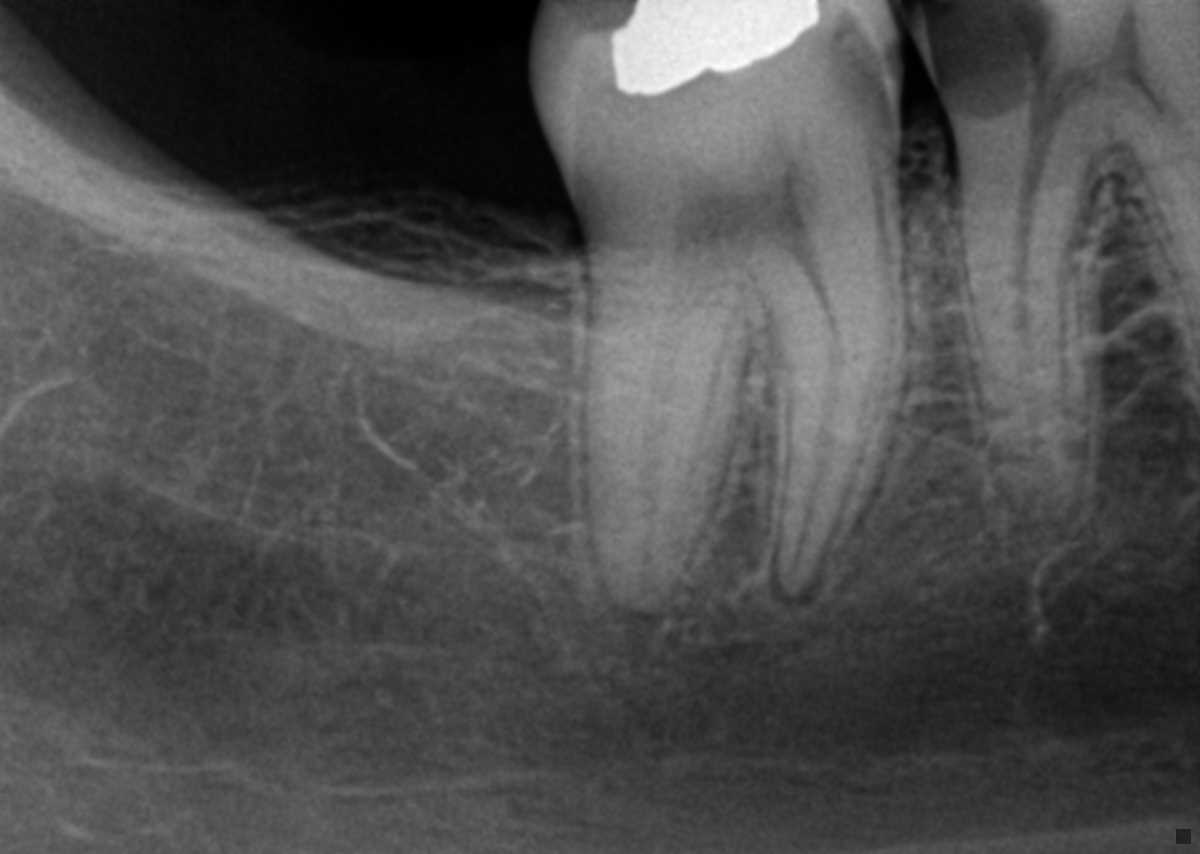Apical Lesion: (765, 570, 827, 611)
Distal Canal: (640, 298, 704, 605), (1016, 157, 1047, 457)
Distal Root: (580, 283, 752, 618), (956, 152, 1098, 524)
Mesial Canal: (789, 282, 845, 579)
Mesial Root: (764, 273, 908, 596), (1126, 116, 1200, 334)
decay: (905, 0, 1056, 124), (831, 14, 892, 142)
